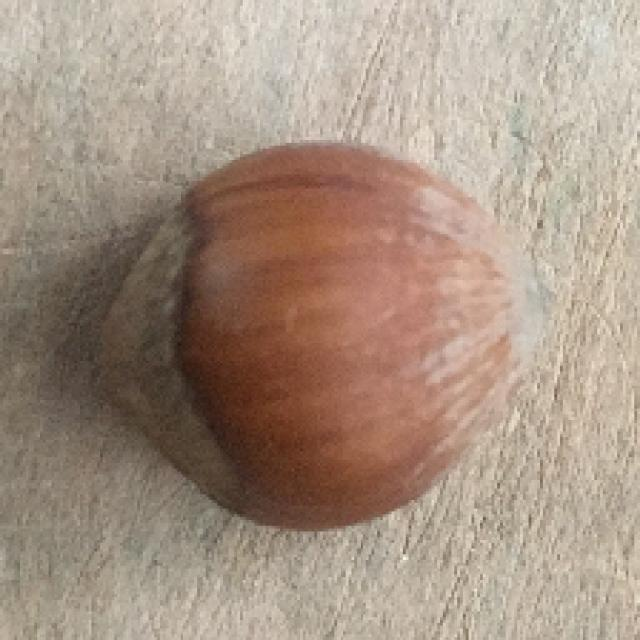qualityHazelnut: (88, 136, 547, 546)
